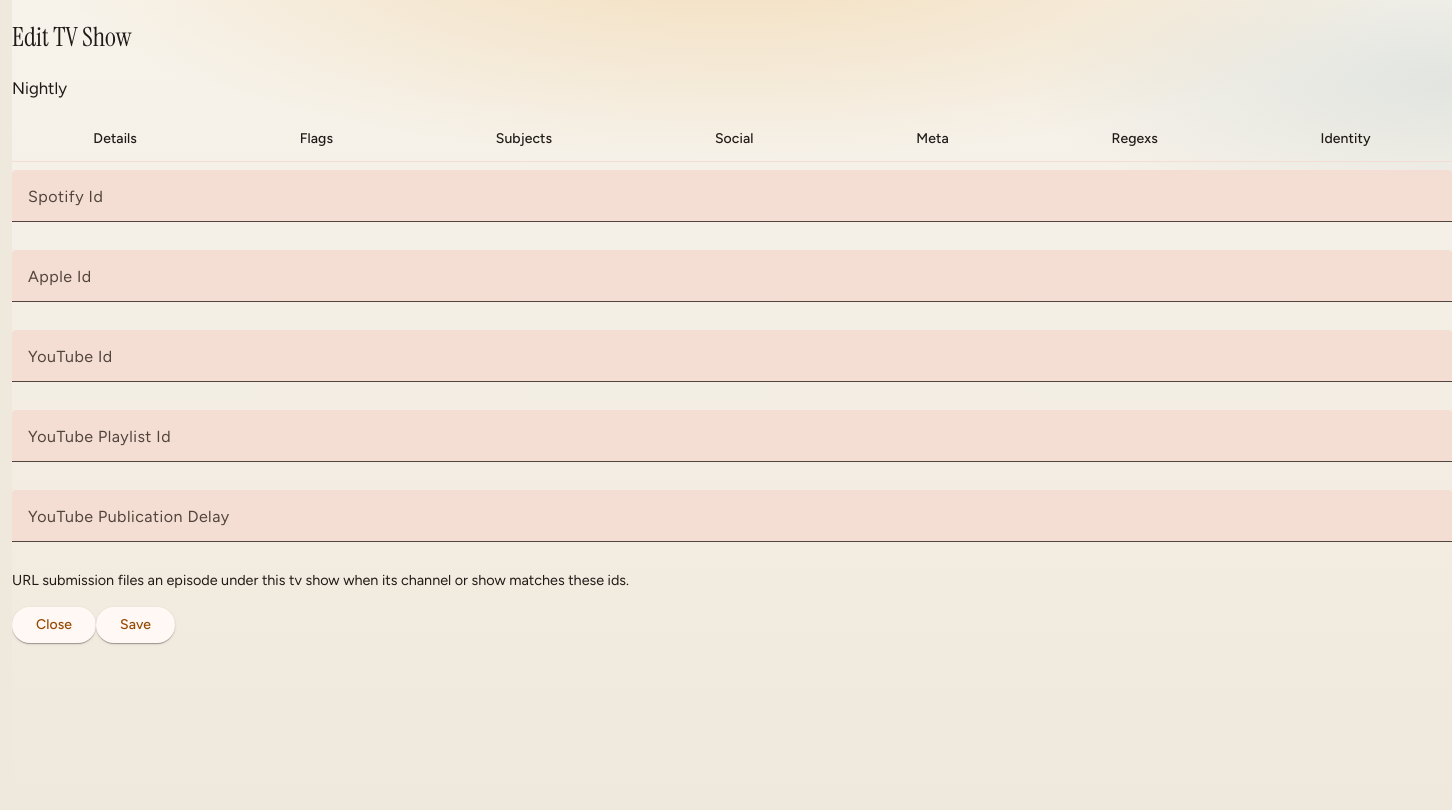
Test: EditCatalogueParentDialogComponent › Flags tab has the checkboxes without helper text and without Skip Enriching From YouTube
Click the tab "Flags".
click(316, 138)  # box x1=300 y1=130 x2=333 y2=147
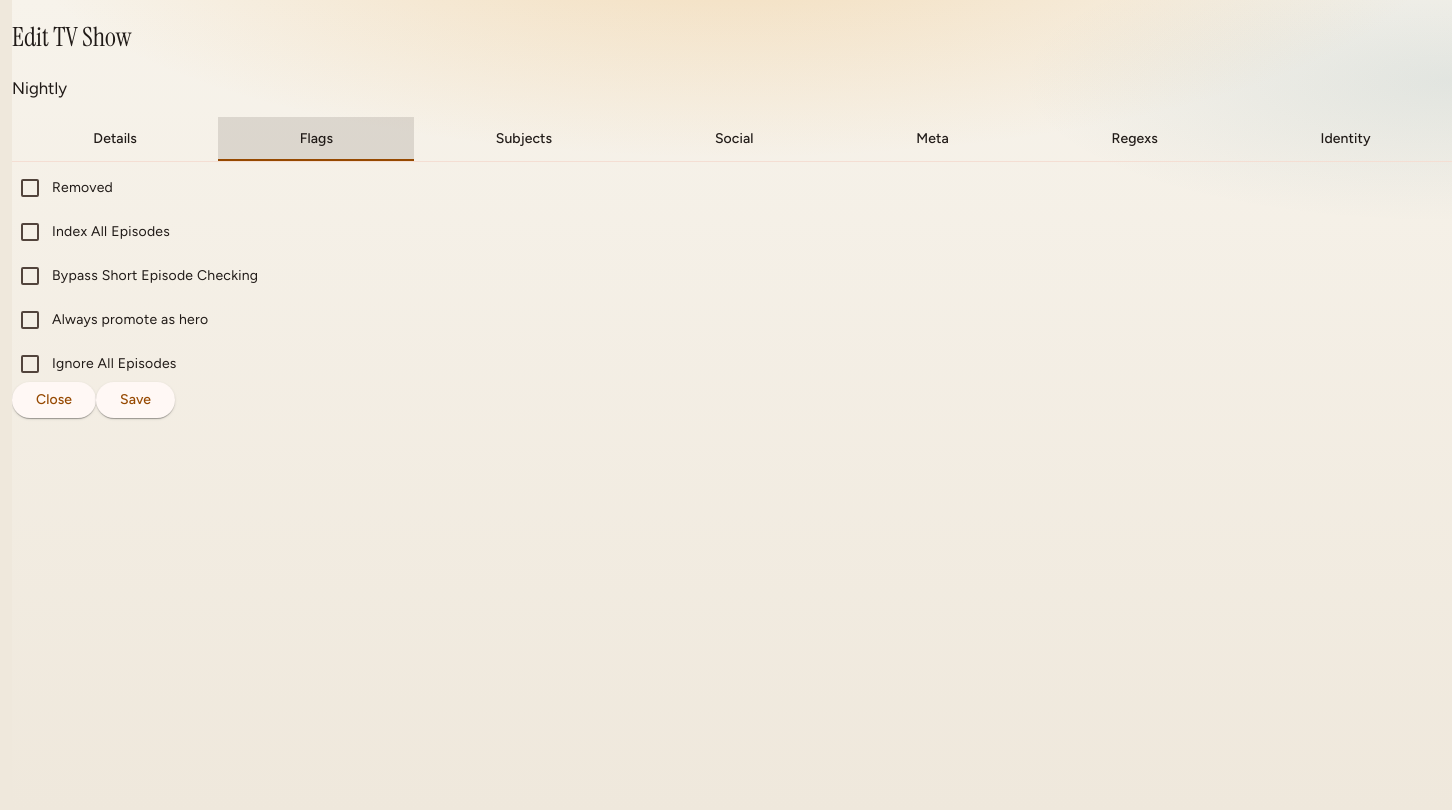
Check: the number of elements with class "flags" is 1, box x1=21 y1=179 x2=258 y2=373
Check: the element with class "flags" shows "Removed", box x1=52 y1=179 x2=113 y2=196
Check: the element with class "flags" shows "Index All Episodes", box x1=52 y1=223 x2=170 y2=240
